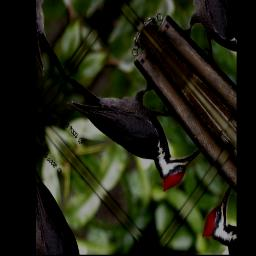Woodpecker: (55, 25, 206, 212)
